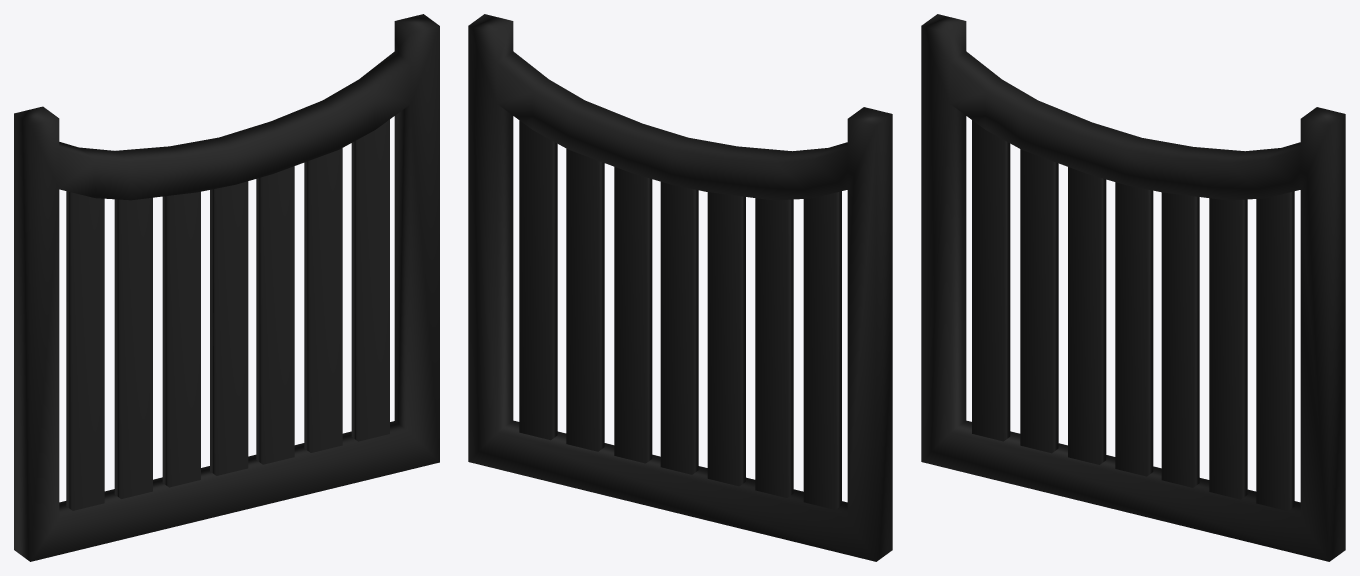
3 views of the same model, side by side, from view 1: azimuth 30°, elevation 25°; view 2: azimuth 150°, elevation 25°; view 3: azimuth 330°, elevation 25° (orthographic).
Visible parts, largest first — view 1: ArborDoor; view 2: ArborDoor; view 3: ArborDoor.
Boxes of the visible parts, box(x1,y1,x2,y2) form: ArborDoor: box(14, 14, 439, 561); ArborDoor: box(468, 14, 892, 561); ArborDoor: box(921, 14, 1345, 561).
Size of what is drawn, in the model's own units: 1.49 by 1.51 by 0.1056.
1 material, 1 textured.
